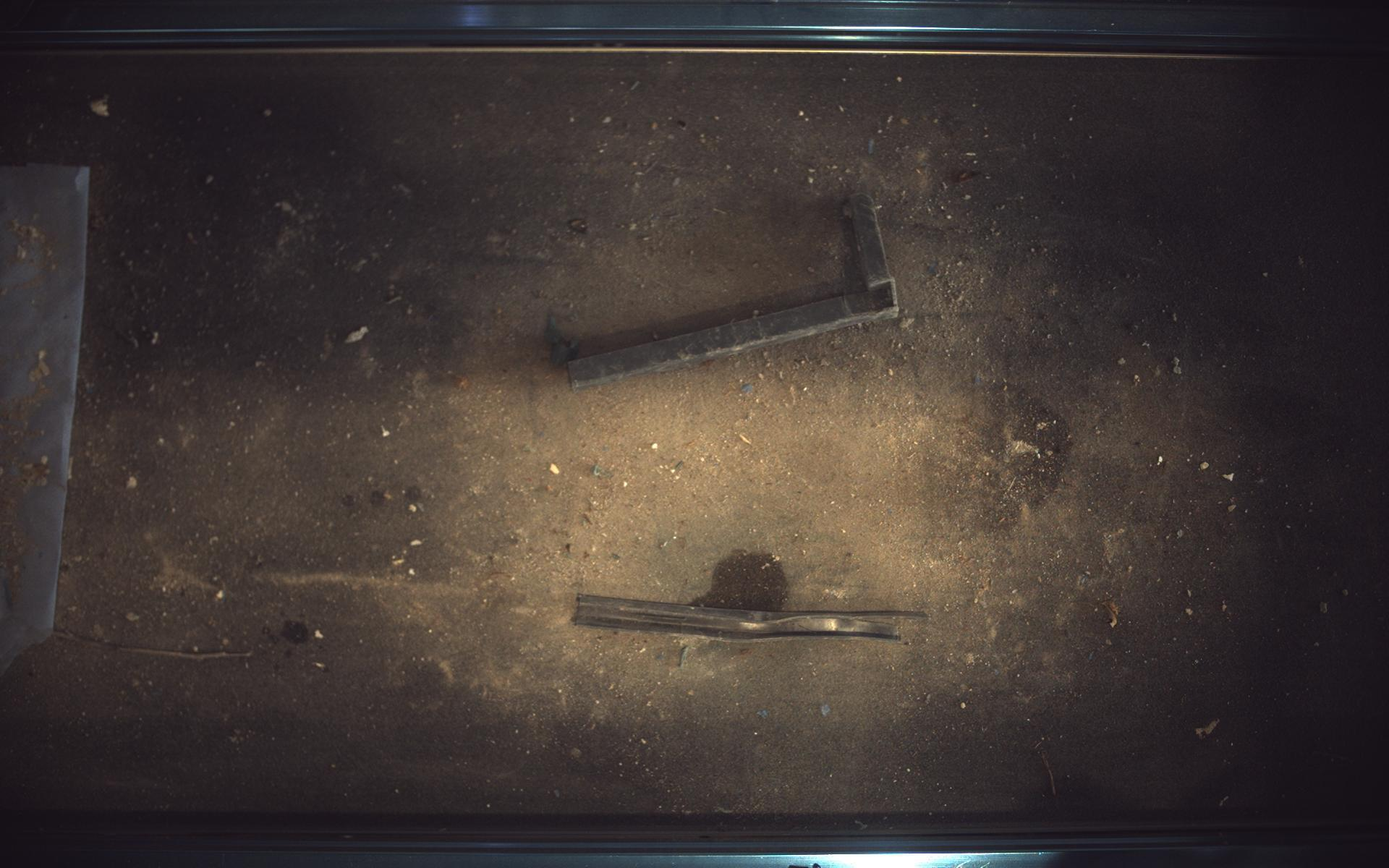plastic: (569, 192, 901, 390), (574, 595, 927, 642)
